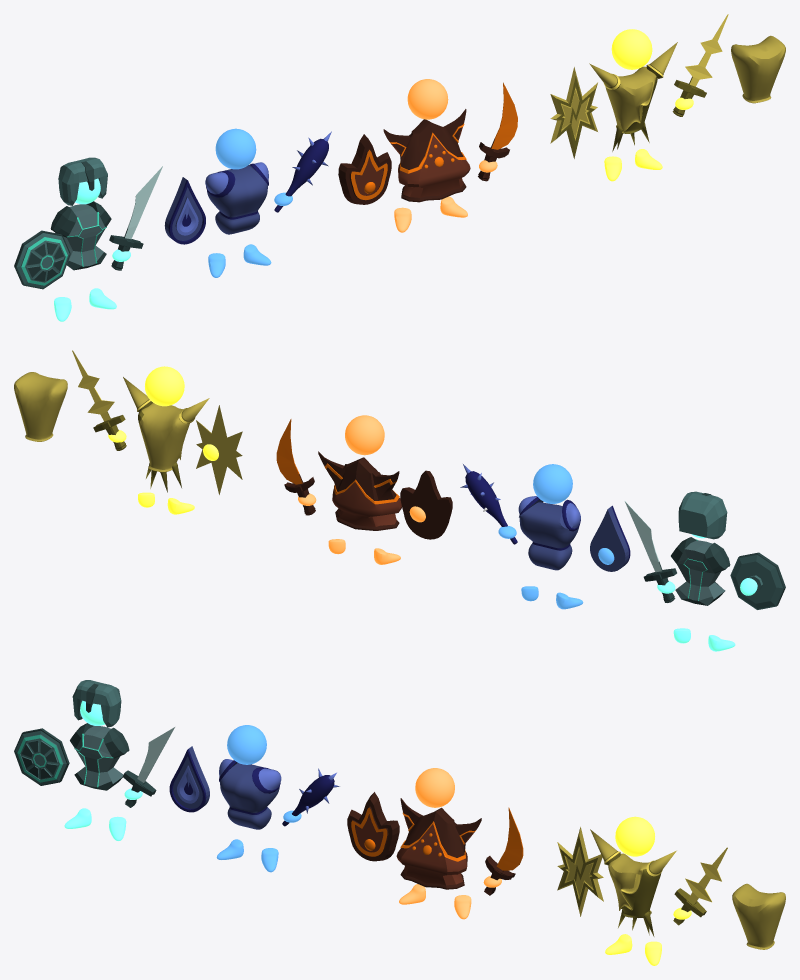
The model's file is enemy_models.fbx.
The picture shows the model from 3 angles, top to bottom: view 1: azimuth 30°, elevation 25°; view 2: azimuth 150°, elevation 25°; view 3: azimuth 330°, elevation 25°; orthographic projection. The views are drawn at different scales.
Visible parts, largest first — view 1: Cube.002, Cube, body, EXTRA BODY, Circle.001, shield, Cube.003, Plane, Circle, helmet, head.003, head.002 (+10 smaller); view 2: Cube.002, Cube, body, EXTRA BODY, Cube.003, Circle.001, shield, helmet, Plane, Circle, head.003, head.001 (+10 smaller); view 3: Cube.002, Cube, body, EXTRA BODY, Circle.001, shield, Cube.003, Plane, Circle, helmet, head.002, head.001 (+10 smaller).
Part boxes in pixels (x1=…): Cube.002: x1=383, y1=109, x2=470, y2=202; Cube: x1=205, y1=162, x2=268, y2=234; body: x1=50, y1=201, x2=111, y2=270; EXTRA BODY: x1=731, y1=35, x2=785, y2=103; Circle.001: x1=338, y1=134, x2=391, y2=204; shield: x1=14, y1=230, x2=70, y2=289; Cube.003: x1=605, y1=66, x2=657, y2=133; Plane: x1=550, y1=67, x2=597, y2=158; Circle: x1=164, y1=177, x2=205, y2=244; helmet: x1=58, y1=157, x2=107, y2=205; head.003: x1=611, y1=29, x2=652, y2=69; head.002: x1=407, y1=79, x2=448, y2=119; Cube.002: x1=318, y1=451, x2=401, y2=530; Cube: x1=518, y1=496, x2=580, y2=570; body: x1=671, y1=537, x2=730, y2=605; EXTRA BODY: x1=14, y1=372, x2=67, y2=441; Cube.003: x1=138, y1=403, x2=189, y2=472; Circle.001: x1=400, y1=470, x2=452, y2=539; shield: x1=730, y1=552, x2=785, y2=609; helmet: x1=678, y1=491, x2=727, y2=539; Plane: x1=196, y1=405, x2=242, y2=494; Circle: x1=590, y1=505, x2=630, y2=571; head.003: x1=145, y1=366, x2=184, y2=406; head.001: x1=533, y1=464, x2=572, y2=503; Cube.002: x1=396, y1=798, x2=481, y2=889; Cube: x1=219, y1=759, x2=281, y2=829; body: x1=70, y1=723, x2=129, y2=790; EXTRA BODY: x1=732, y1=883, x2=785, y2=949; Circle.001: x1=347, y1=792, x2=399, y2=861; shield: x1=14, y1=728, x2=69, y2=785; Cube.003: x1=608, y1=853, x2=661, y2=917; Plane: x1=557, y1=827, x2=603, y2=916; Circle: x1=169, y1=746, x2=209, y2=812; helmet: x1=72, y1=680, x2=121, y2=727; head.002: x1=415, y1=768, x2=454, y2=807; head.001: x1=227, y1=725, x2=266, y2=764.
Bounding box in the file's own units: 704 × 132 × 37.23.
